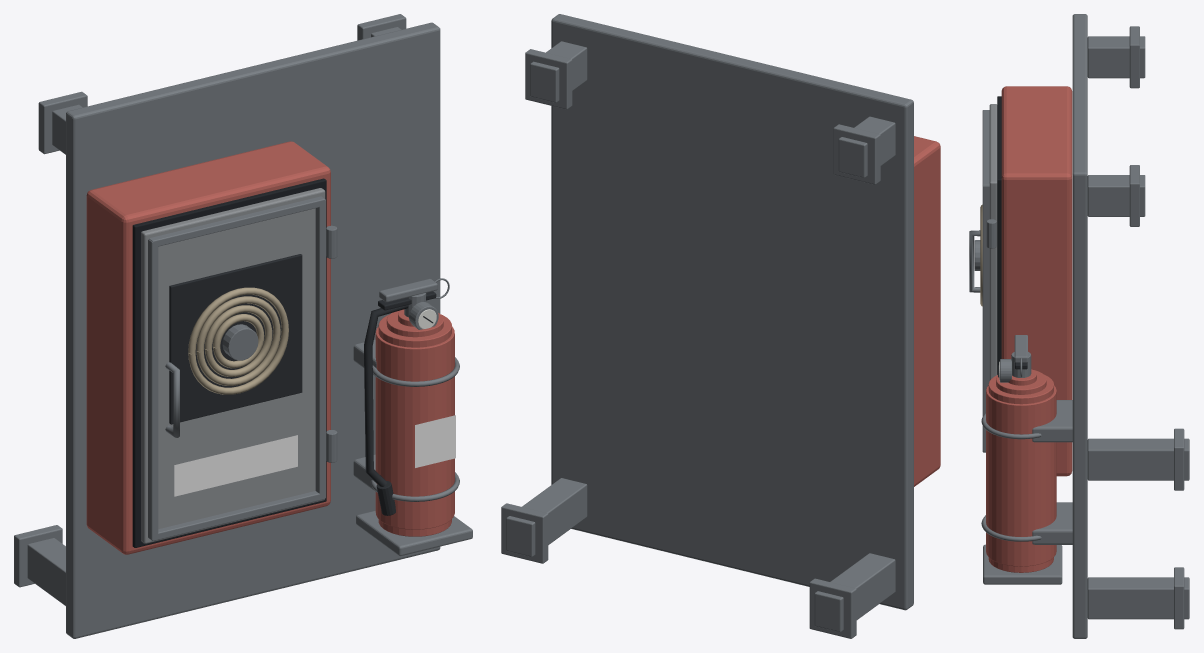
File: BP_WallSafety_R12.fbx
3 renders of one model, left to right at view 1: azimuth 30°, elevation 25°; view 2: azimuth 150°, elevation 25°; view 3: azimuth 270°, elevation 25°, orthographic. The views are drawn at different scales.
Visible parts, largest first — view 1: BP_WallSafety_R12; view 2: BP_WallSafety_R12; view 3: BP_WallSafety_R12.
Boxes of the visible parts, <box> form: BP_WallSafety_R12: <box>14,14,472,638</box>; BP_WallSafety_R12: <box>501,14,940,638</box>; BP_WallSafety_R12: <box>969,14,1189,638</box>.
Size of the model in its own units: 134 by 182 by 77.83.
